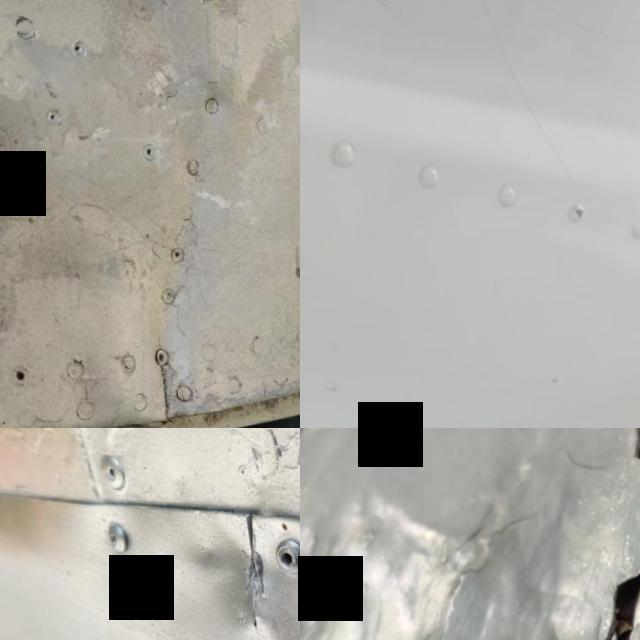Crack: (444, 428, 640, 640), (193, 493, 297, 640), (130, 354, 190, 424), (550, 180, 594, 254)
Dent: (149, 528, 300, 640)
